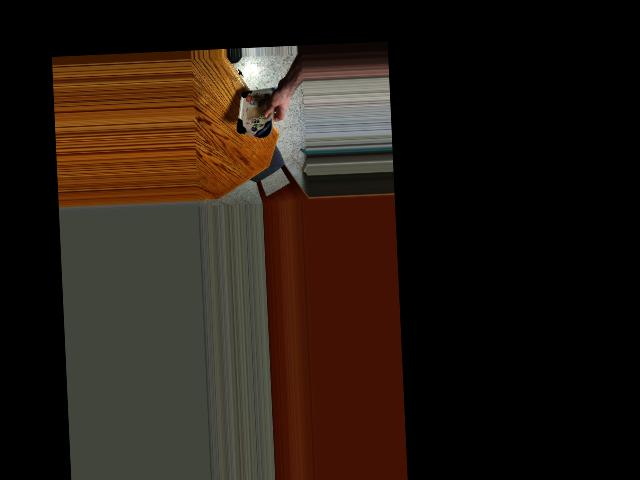cheese: (235, 77, 276, 140)
